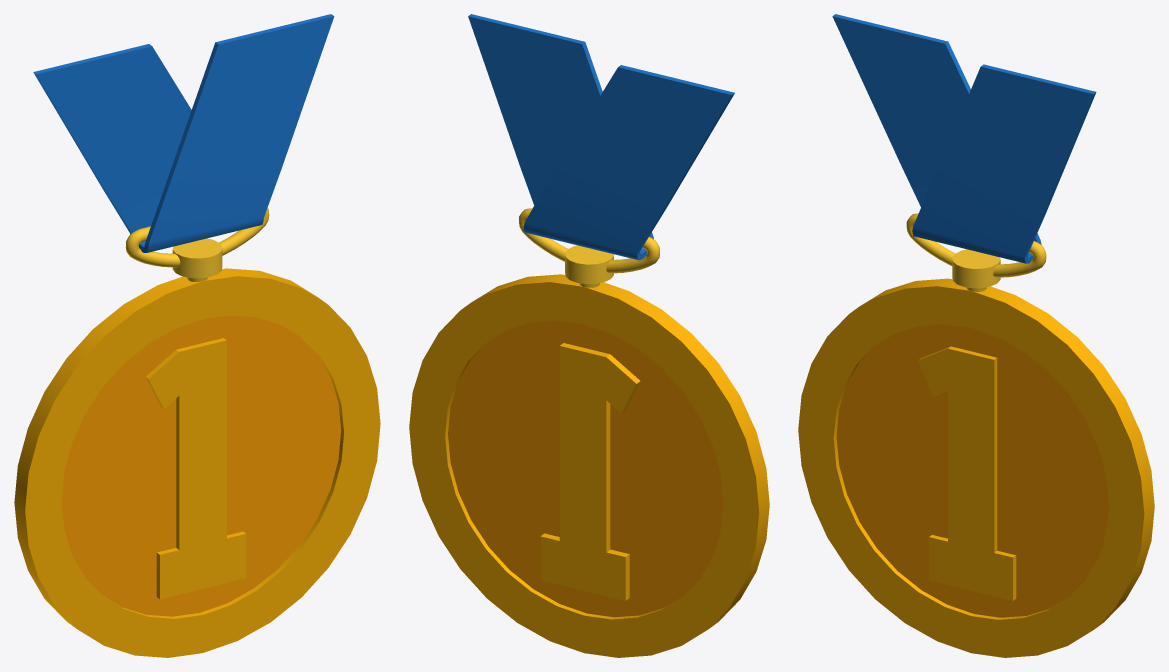
File: 1st_place_medal.glb
3 views of the same model, side by side, from view 1: azimuth 30°, elevation 25°; view 2: azimuth 150°, elevation 25°; view 3: azimuth 330°, elevation 25° (orthographic). The views are drawn at different scales.
Parts seen in each view (by area): view 1: Circle.281, Cube.807, Cylinder.472; view 2: Circle.281, Cube.807, Cylinder.472; view 3: Circle.281, Cube.807, Cylinder.472.
Part boxes in pixels (<box>): Circle.281: <box>14,268,380,657</box>; Cube.807: <box>33,14,334,252</box>; Cylinder.472: <box>125,208,269,281</box>; Circle.281: <box>409,274,769,657</box>; Cube.807: <box>468,14,734,260</box>; Cylinder.472: <box>519,208,659,287</box>; Circle.281: <box>798,278,1154,657</box>; Cube.807: <box>832,14,1096,263</box>; Cylinder.472: <box>906,213,1046,291</box>.
Bounding box in the file's own units: 1.4 × 2.29 × 0.1711.
1 material, 1 textured.
